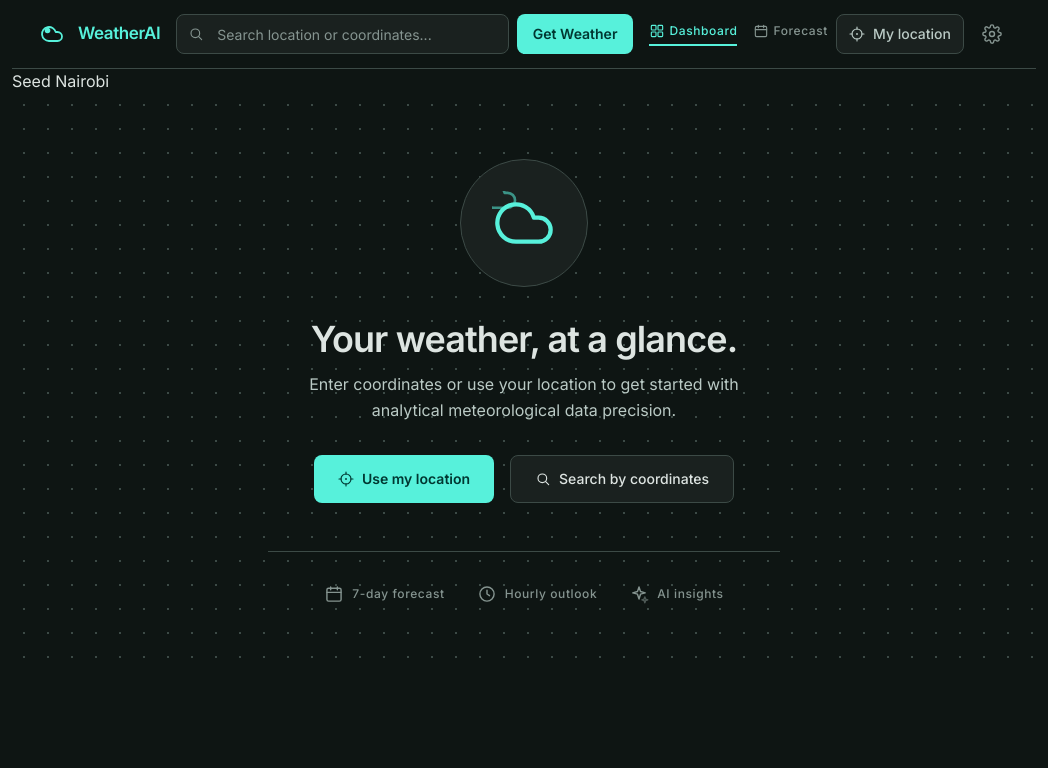
Test: CurrentConditionsView › fills coordinates from a city geocode before fetching weather
In the dropdown labelled "location or coordinates": (343, 34) [176,14,509,54], type "Nairobi"
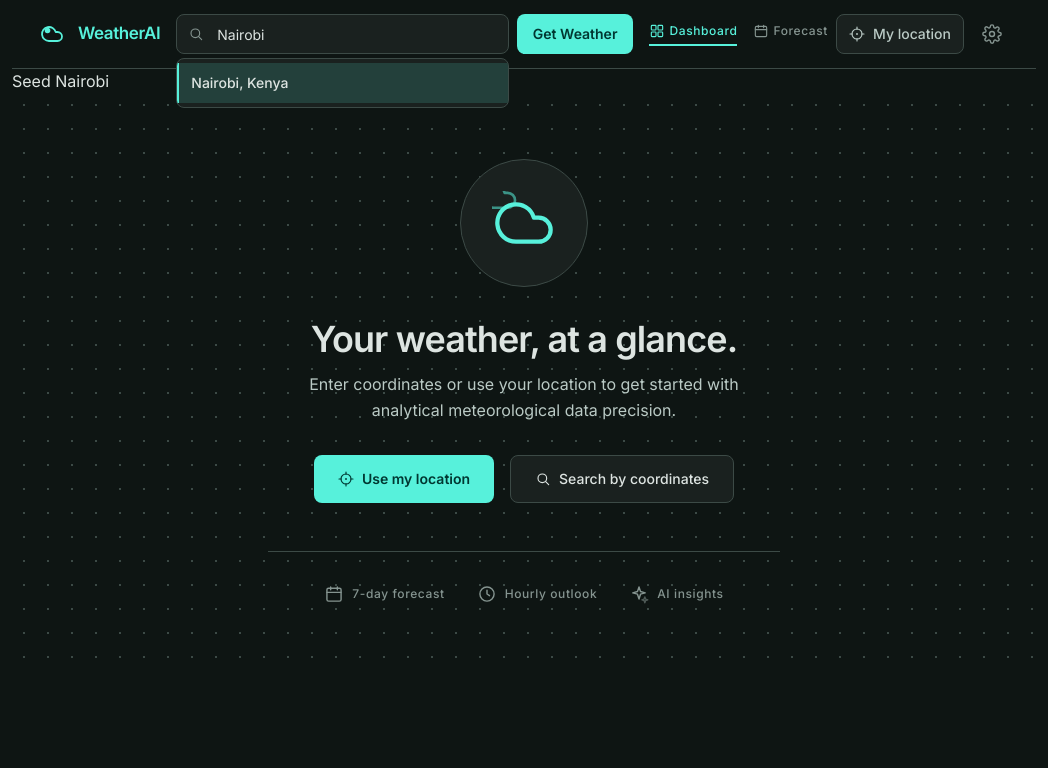
Check: the option "Nairobi, Kenya" is shown
Click the option "Nairobi, Kenya": (240, 82) [177,63,508,103]
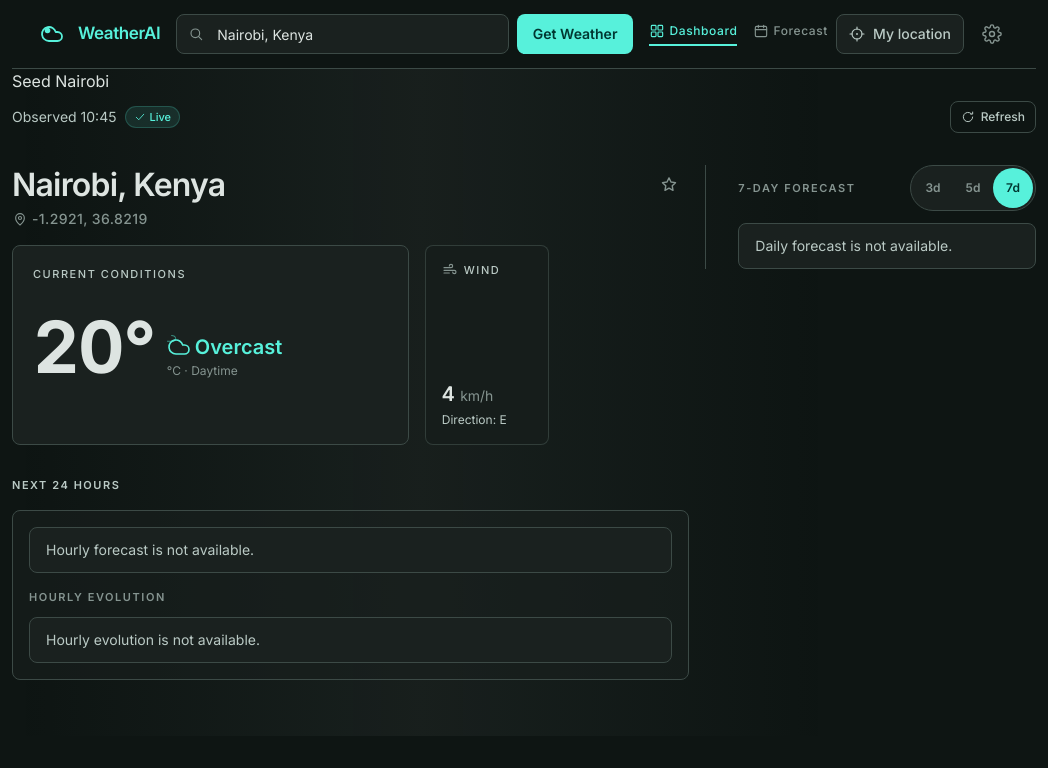
Check: the heading "Nairobi, Kenya" is shown, box [12,165,226,205]
Check: the text "Overcast" is shown, box [167,332,282,360]
